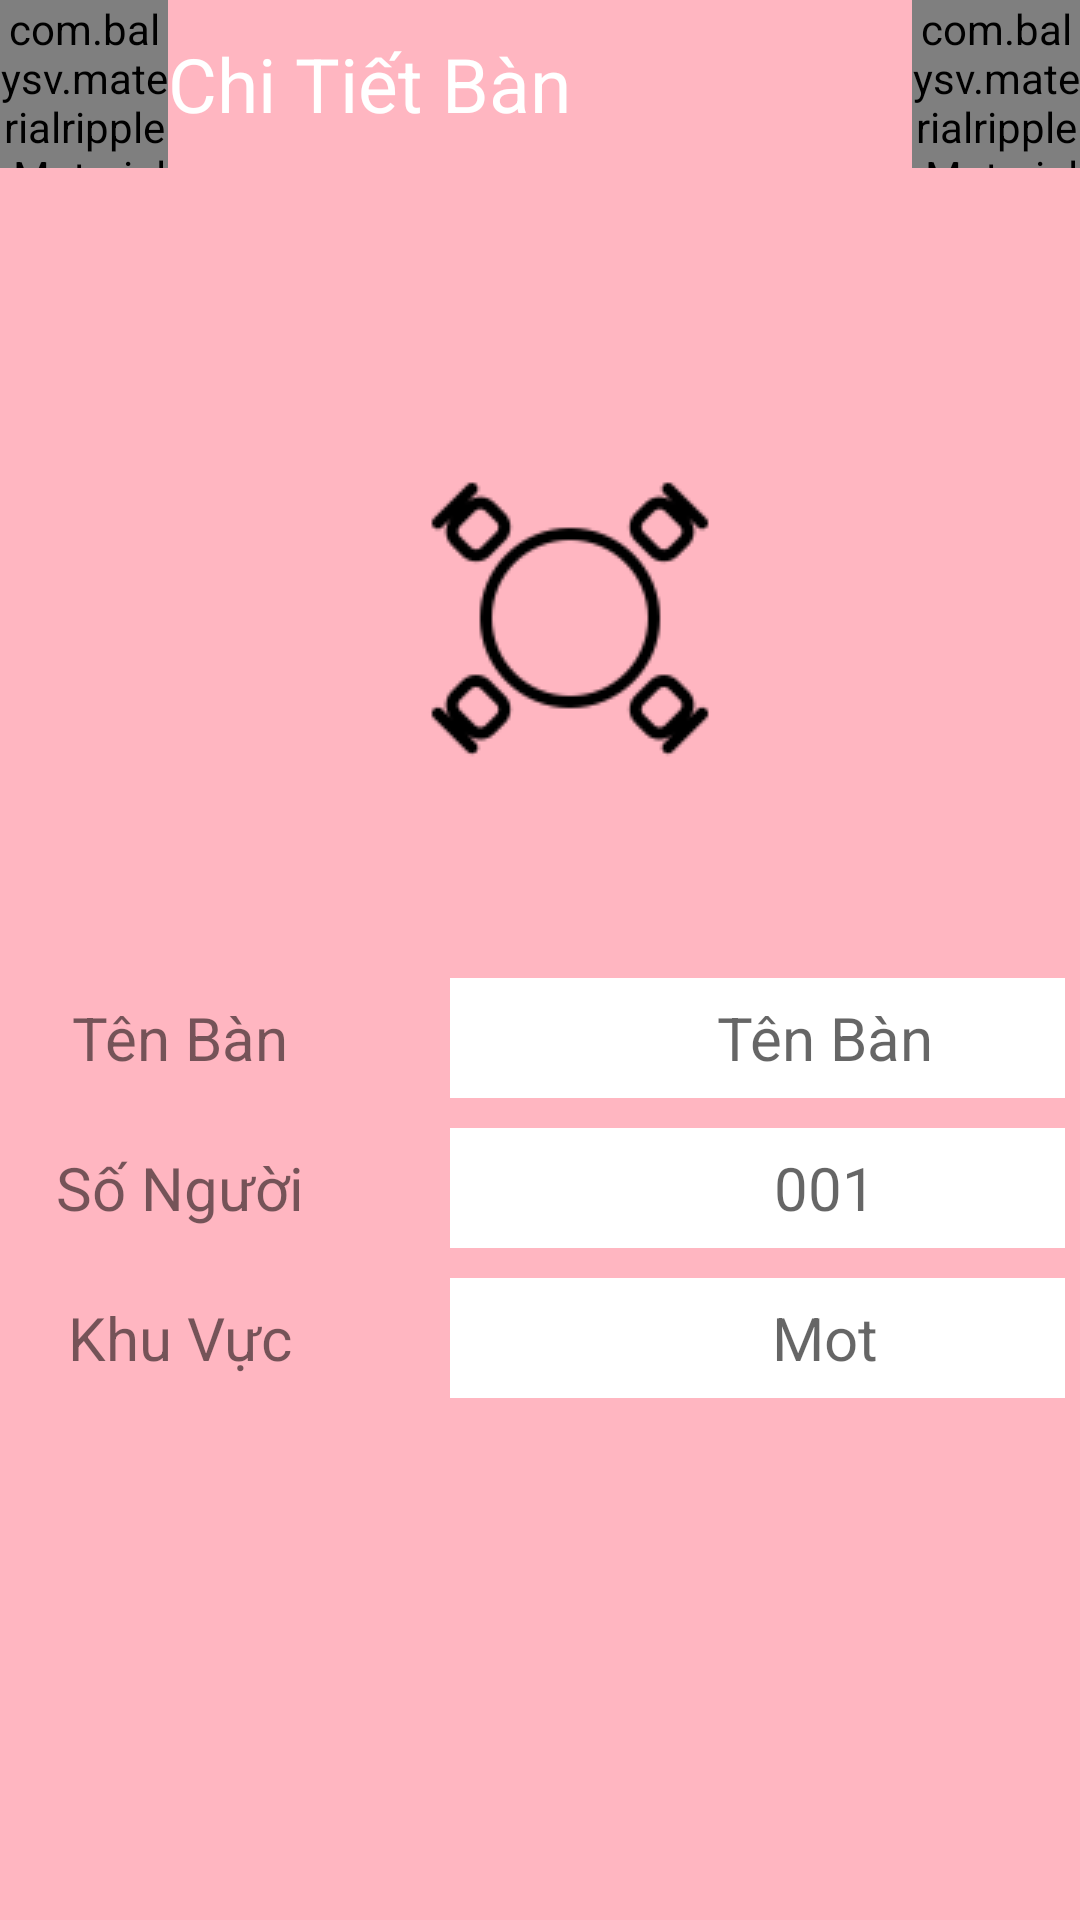

Icons on this 1080 x 1920 Android screen, each with the point to tap as (x,y):
table rong: (570,618)
